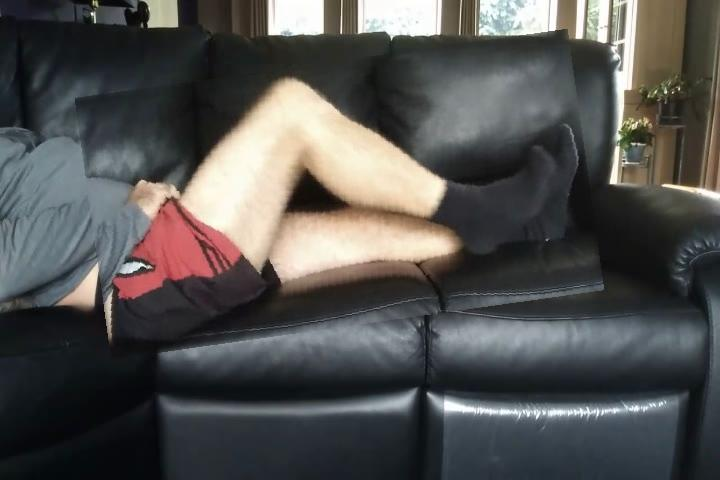lowerbody: (84, 47, 598, 343)
